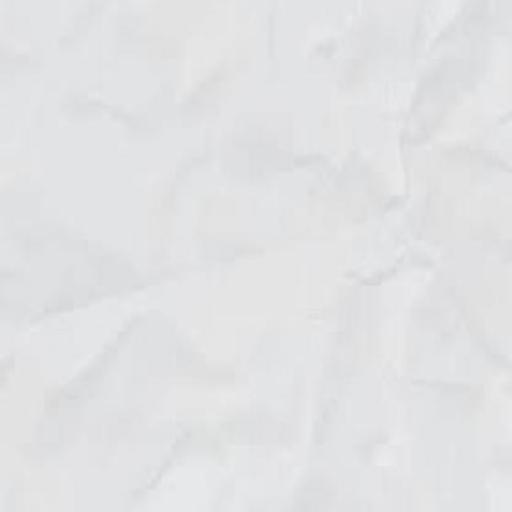paper: (0, 2, 511, 511)
